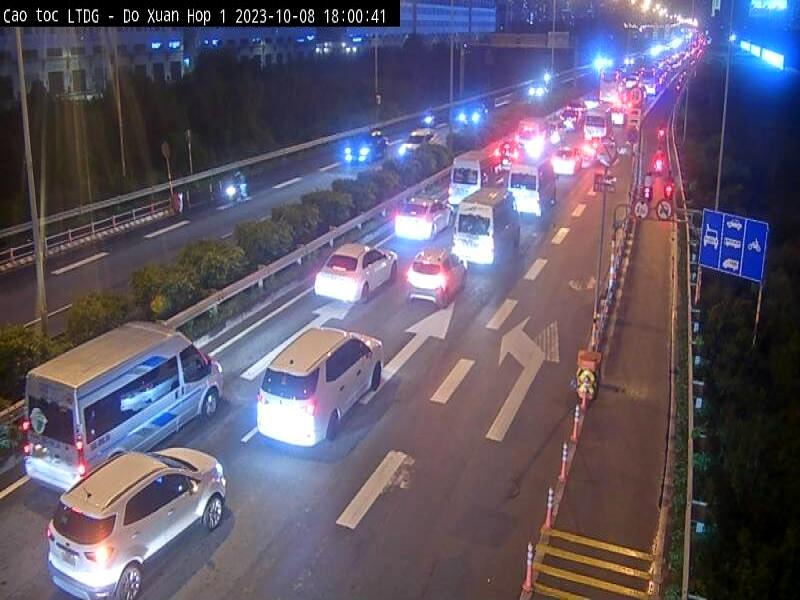car: (10, 303, 229, 502), (35, 422, 238, 600), (255, 317, 404, 451), (289, 237, 399, 318), (377, 234, 466, 321), (449, 181, 517, 271), (498, 156, 569, 218), (371, 185, 449, 231), (449, 136, 496, 193)
